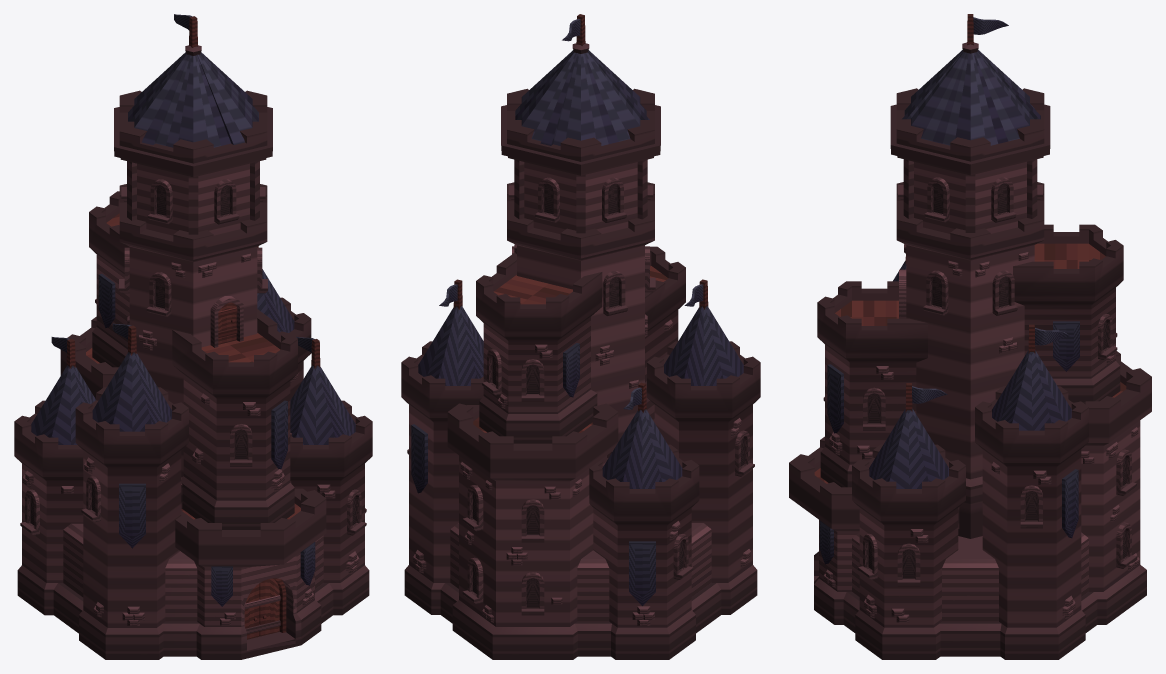
The picture shows the model from 3 angles, left to right: view 1: azimuth 30°, elevation 25°; view 2: azimuth 150°, elevation 25°; view 3: azimuth 270°, elevation 25°; orthographic projection.
Parts seen in each view (by area): view 1: building_castle_blue; view 2: building_castle_blue; view 3: building_castle_blue.
Boxes of the visible parts, x1=… form: building_castle_blue: x1=14, y1=14, x2=372, y2=659; building_castle_blue: x1=401, y1=14, x2=760, y2=659; building_castle_blue: x1=789, y1=14, x2=1151, y2=659.
Size of the model in its own units: 1.98 by 3.98 by 2.26.
1 material, 1 textured.
